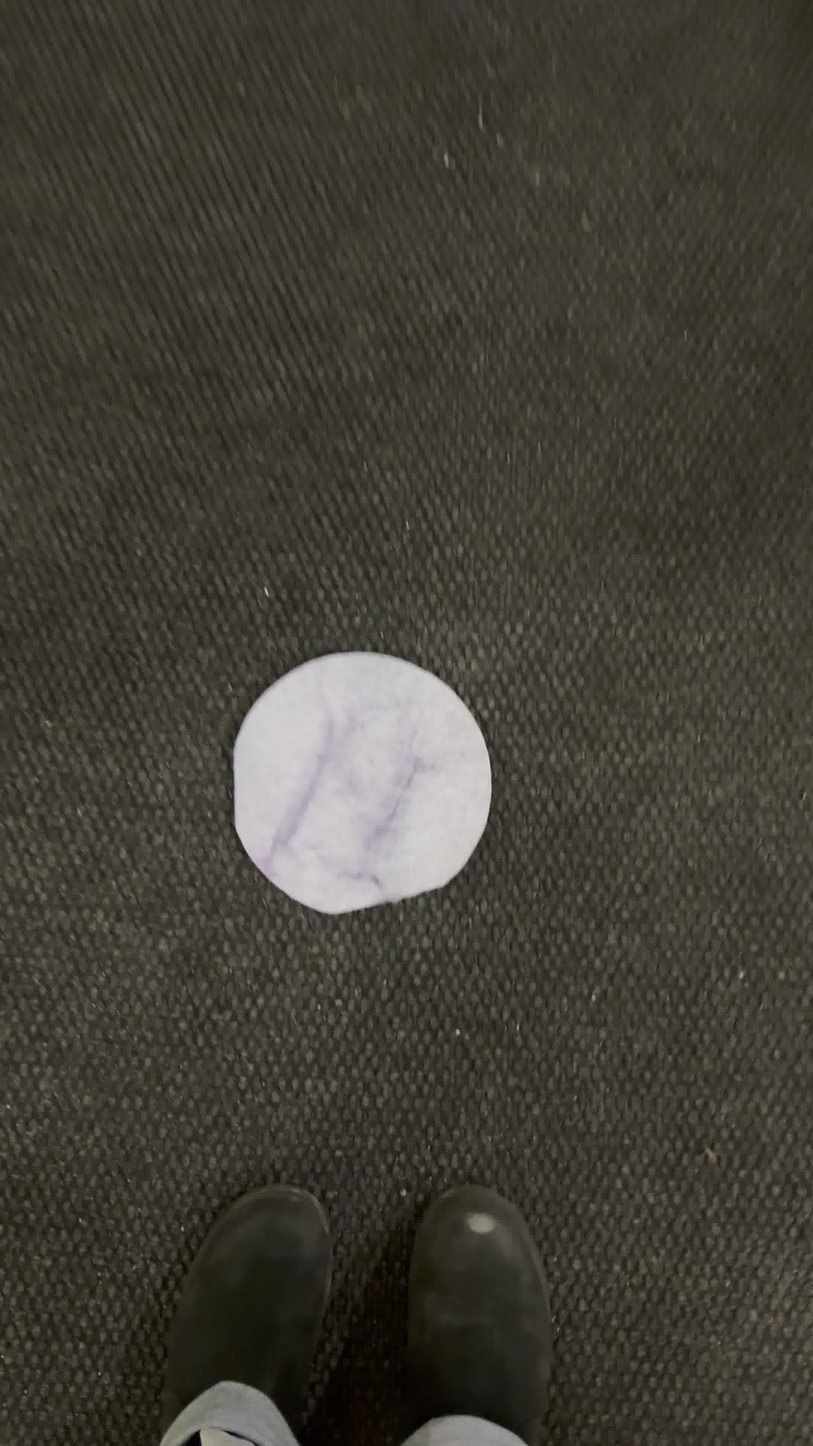Target: (230, 649, 497, 916)
